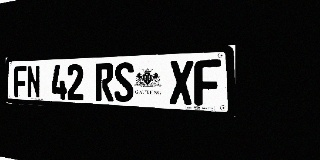2: (67, 64, 83, 100)
4: (52, 64, 67, 100)
F: (194, 59, 221, 106), (14, 66, 27, 98)
N: (27, 65, 41, 98)
R: (95, 63, 114, 102)
S: (114, 62, 134, 102)
X: (169, 60, 194, 105)
